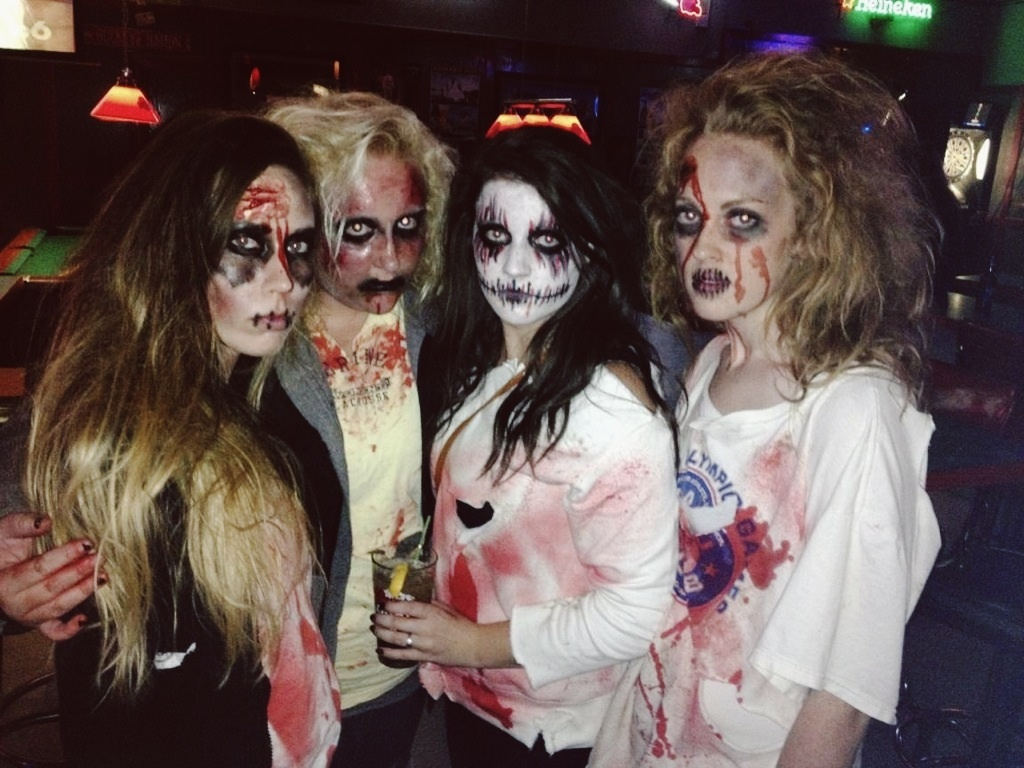Person: (580, 51, 945, 768), (13, 106, 338, 768), (369, 125, 676, 768), (254, 95, 465, 766)
